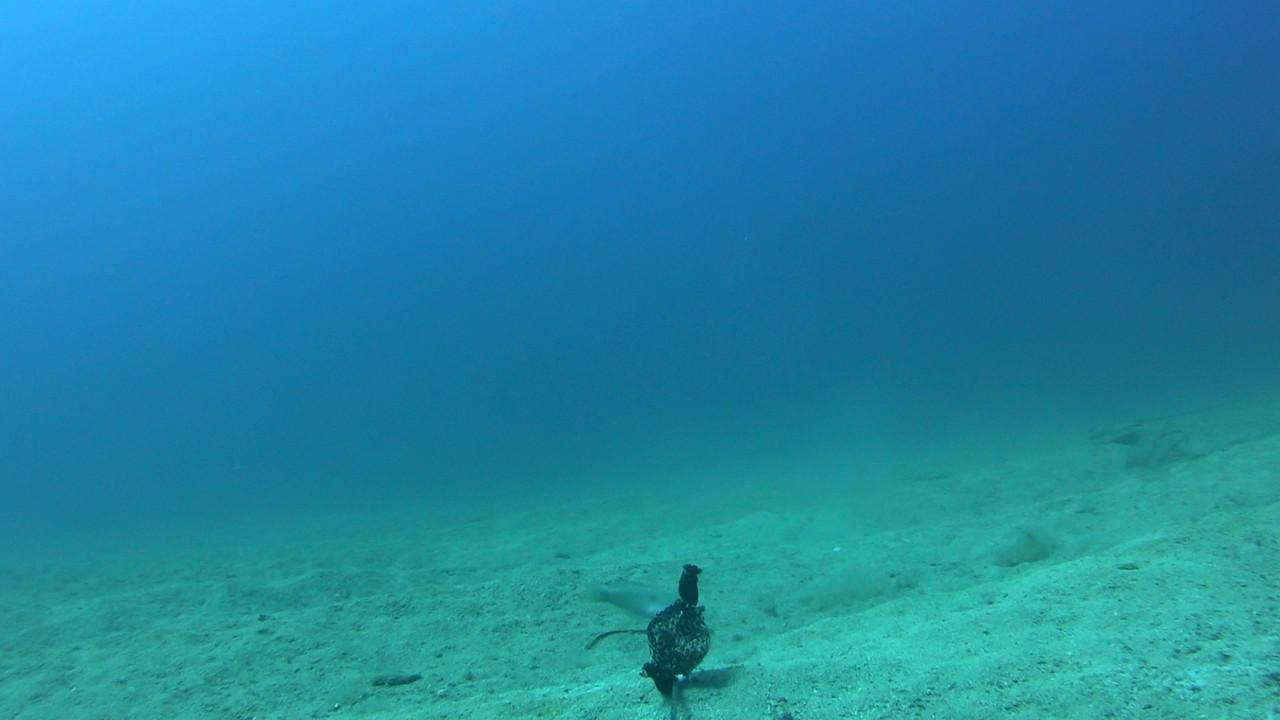myliobatis: (1063, 399, 1259, 445)
